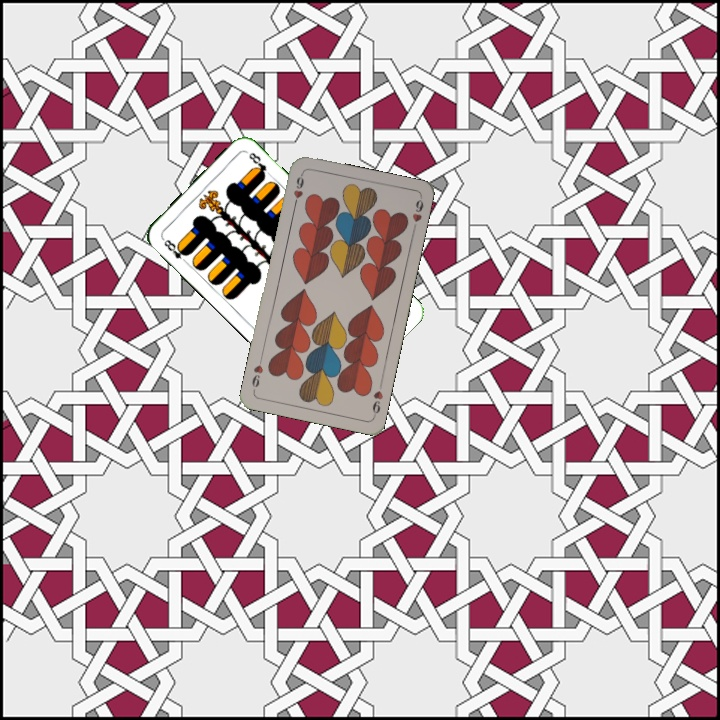E8: (158, 234, 191, 267)
H9: (289, 169, 307, 209), (368, 379, 385, 419)
